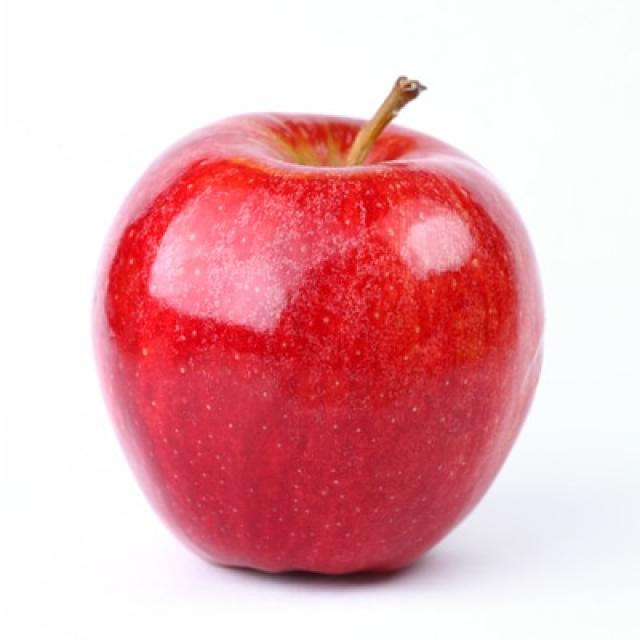Apple: (90, 74, 552, 585)
